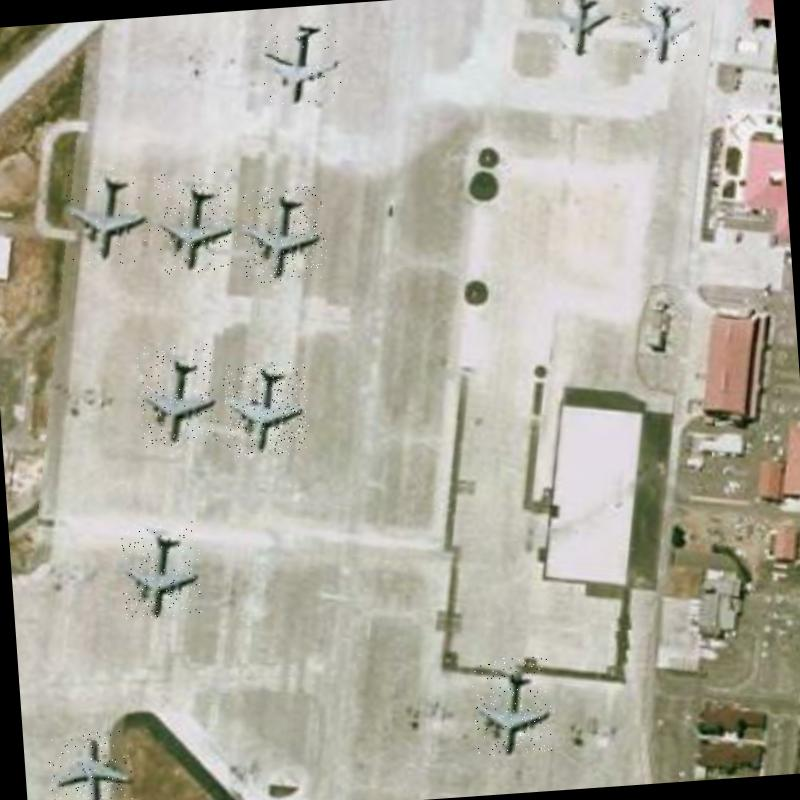A18: (628, 0, 701, 67), (550, 0, 617, 57)
A4: (62, 157, 152, 267), (134, 340, 220, 447), (154, 170, 240, 274), (240, 182, 328, 283), (118, 518, 204, 620), (222, 360, 310, 458), (470, 654, 554, 756), (258, 20, 343, 108), (46, 729, 134, 800)
